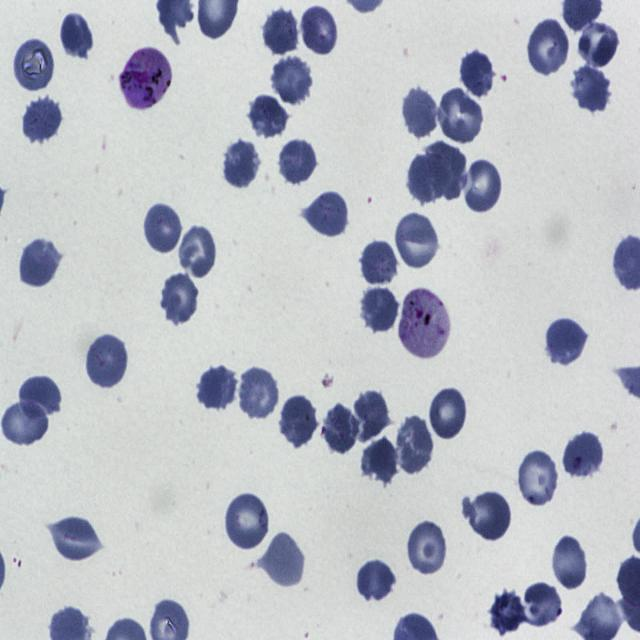difficult: (119, 46, 171, 111)
red blood cell: (223, 490, 272, 552), (436, 85, 485, 146), (394, 211, 442, 272), (392, 412, 436, 477), (526, 17, 572, 78), (516, 448, 560, 511), (48, 514, 102, 565), (346, 385, 392, 443), (300, 187, 350, 240), (256, 532, 304, 587), (84, 333, 130, 390), (466, 488, 514, 542), (236, 364, 280, 422), (406, 518, 448, 578), (18, 373, 62, 428), (425, 143, 468, 199), (13, 37, 55, 94), (269, 53, 314, 106), (560, 429, 604, 483), (18, 235, 62, 288), (545, 316, 589, 368), (178, 223, 218, 280), (401, 83, 441, 140), (550, 534, 589, 592), (463, 158, 504, 213), (406, 154, 452, 203), (142, 200, 182, 256), (429, 385, 468, 442), (1, 399, 48, 446), (160, 270, 200, 325), (278, 394, 318, 449), (358, 284, 401, 335), (21, 93, 63, 145), (195, 364, 238, 414), (569, 64, 612, 114), (577, 17, 620, 67), (359, 434, 401, 485), (322, 402, 360, 458), (246, 90, 290, 138), (456, 46, 494, 101), (221, 138, 261, 190), (262, 4, 301, 57), (276, 139, 318, 188), (359, 238, 399, 288), (355, 558, 397, 605), (58, 11, 96, 62), (302, 5, 338, 56), (490, 589, 528, 636), (524, 584, 564, 628)
ring: (399, 286, 451, 361)
